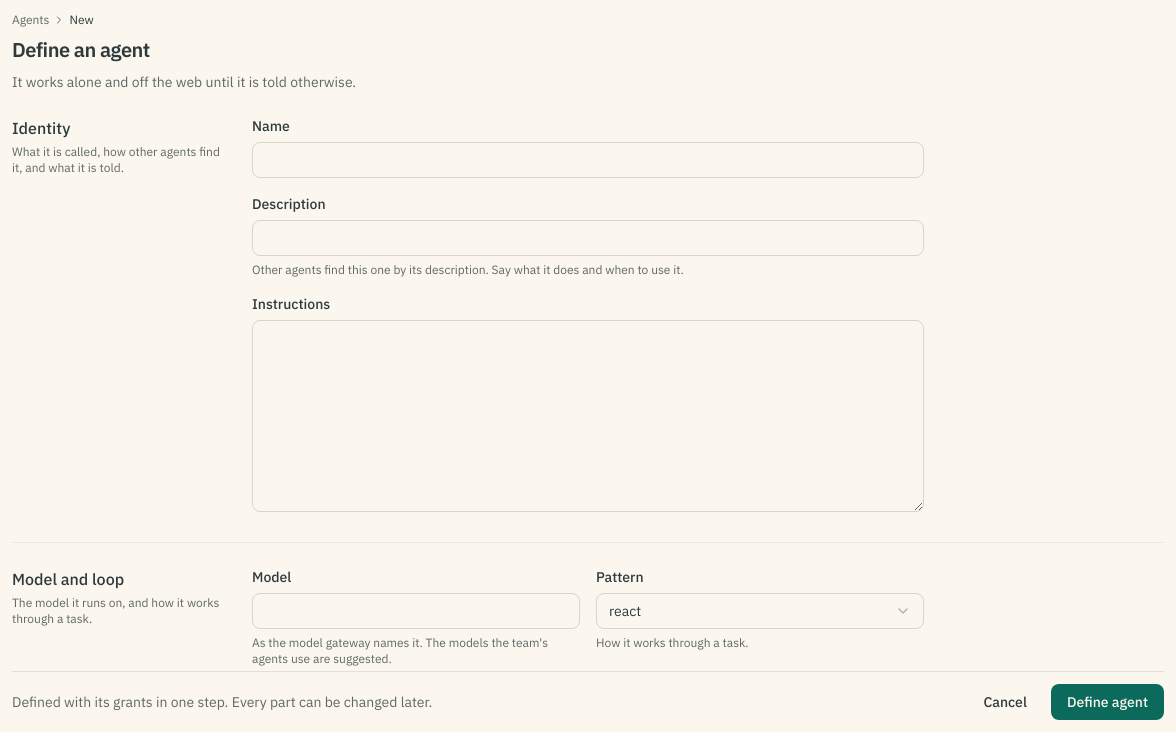
Scenario: defining an agent › refuses a draft it cannot send, and sends nothing
Type "m" into the field labelled "Model".
click(416, 611); type("m")  # box [252, 593, 580, 629]
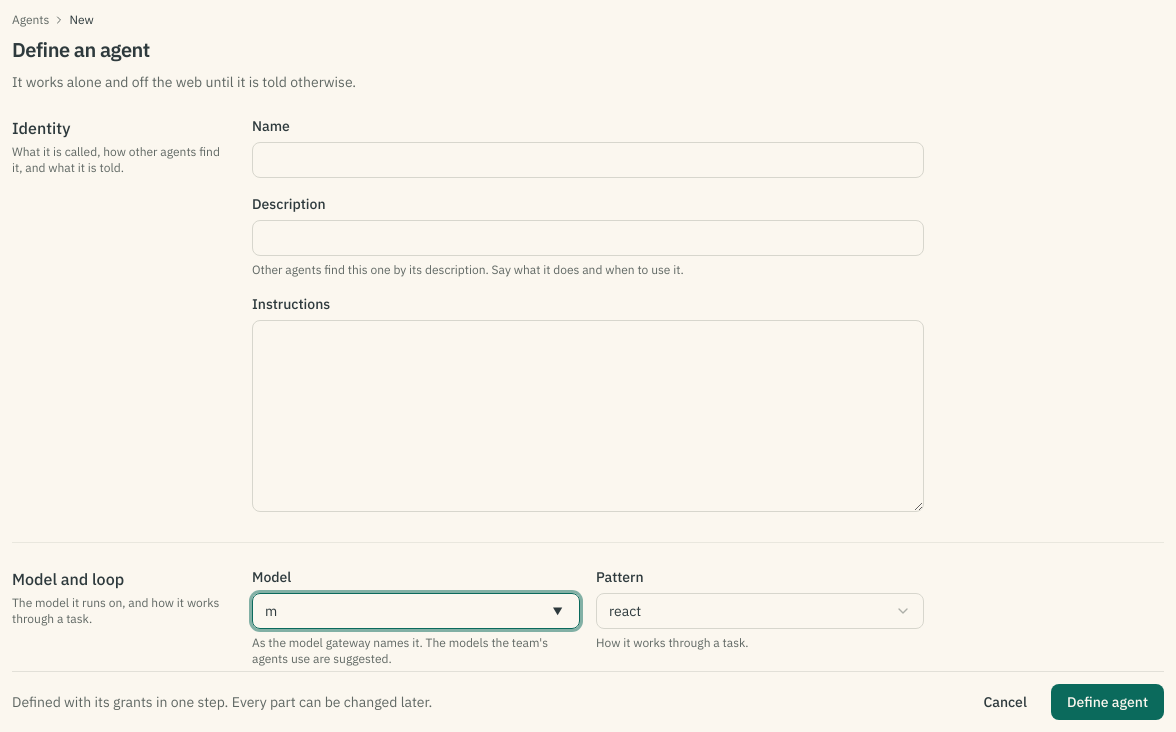
Click the button "Define agent".
click(1107, 702)  # box [1051, 684, 1164, 720]
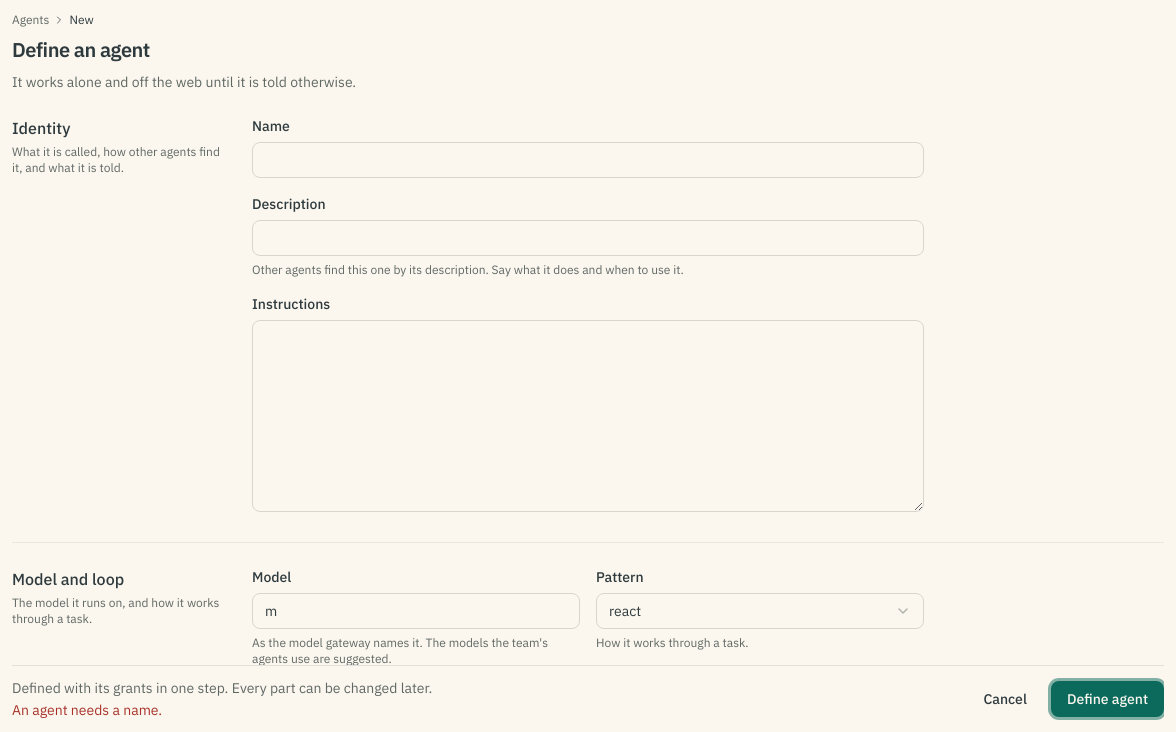
Expected: the message reads "An agent needs a name.", [12, 701, 162, 719]
